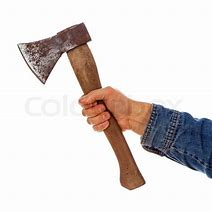axe: (16, 21, 147, 191)
